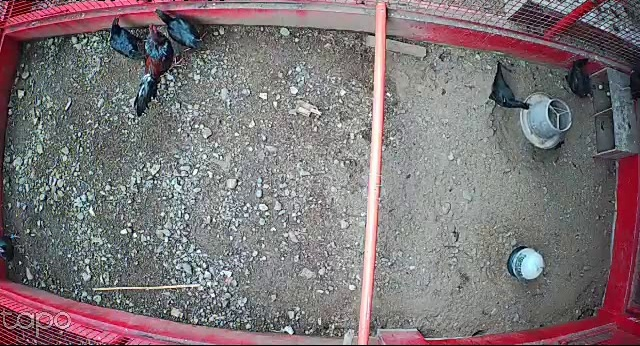Chicken: (152, 6, 208, 54), (484, 61, 532, 115), (102, 15, 149, 63), (566, 54, 594, 104), (0, 230, 19, 268)
Leg_Band_Blue: (11, 234, 15, 239)
Rooster: (133, 25, 187, 119)
